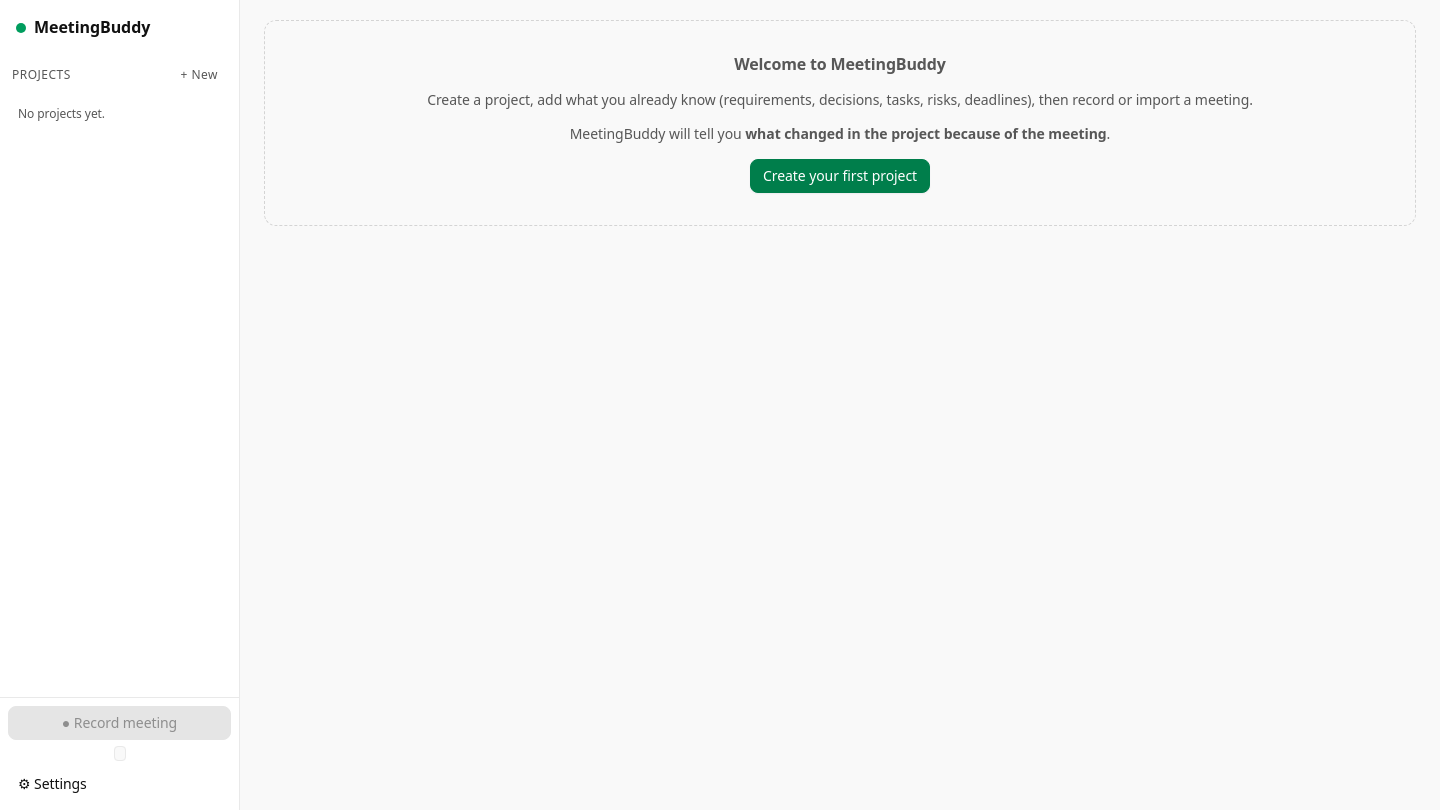
it: creating a project › shows why creating failed and keeps the dialog open
Click the button "Create your first project" at (840, 176), box [750,159,930,193]
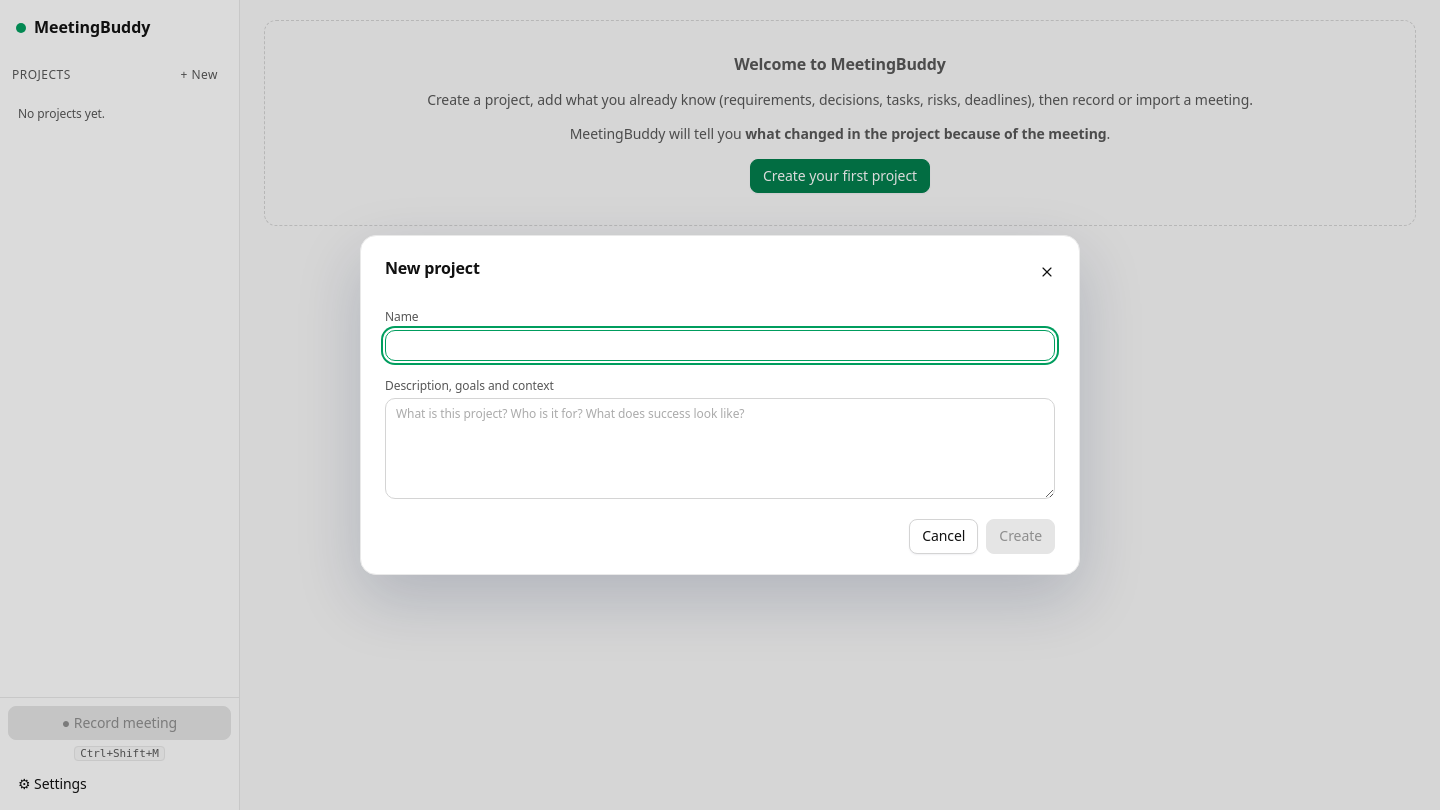
Type "Phoenix" into the field at (720, 345), box [385,330,1055,361]
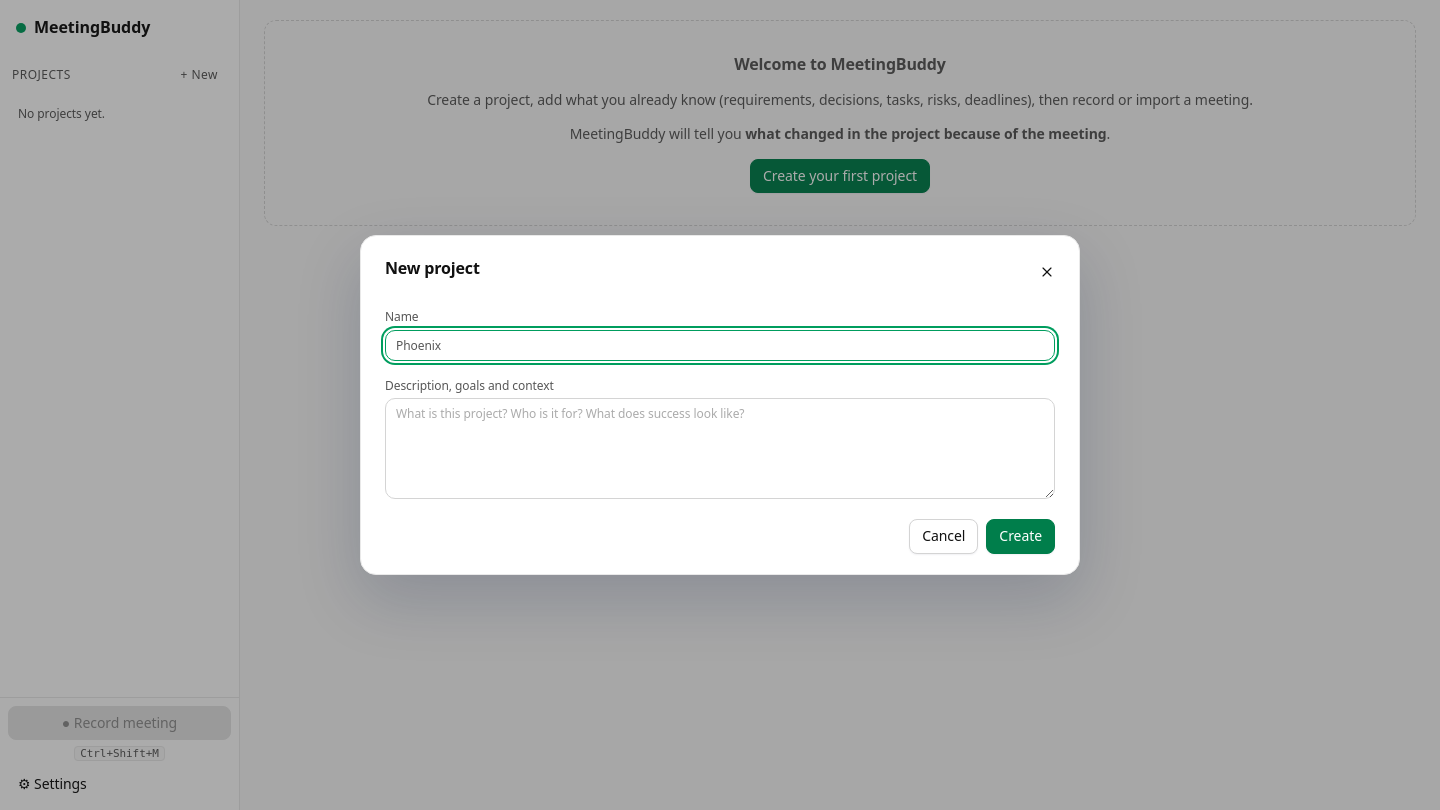
Click the button "Create" at (1021, 537), box [986,519,1055,554]
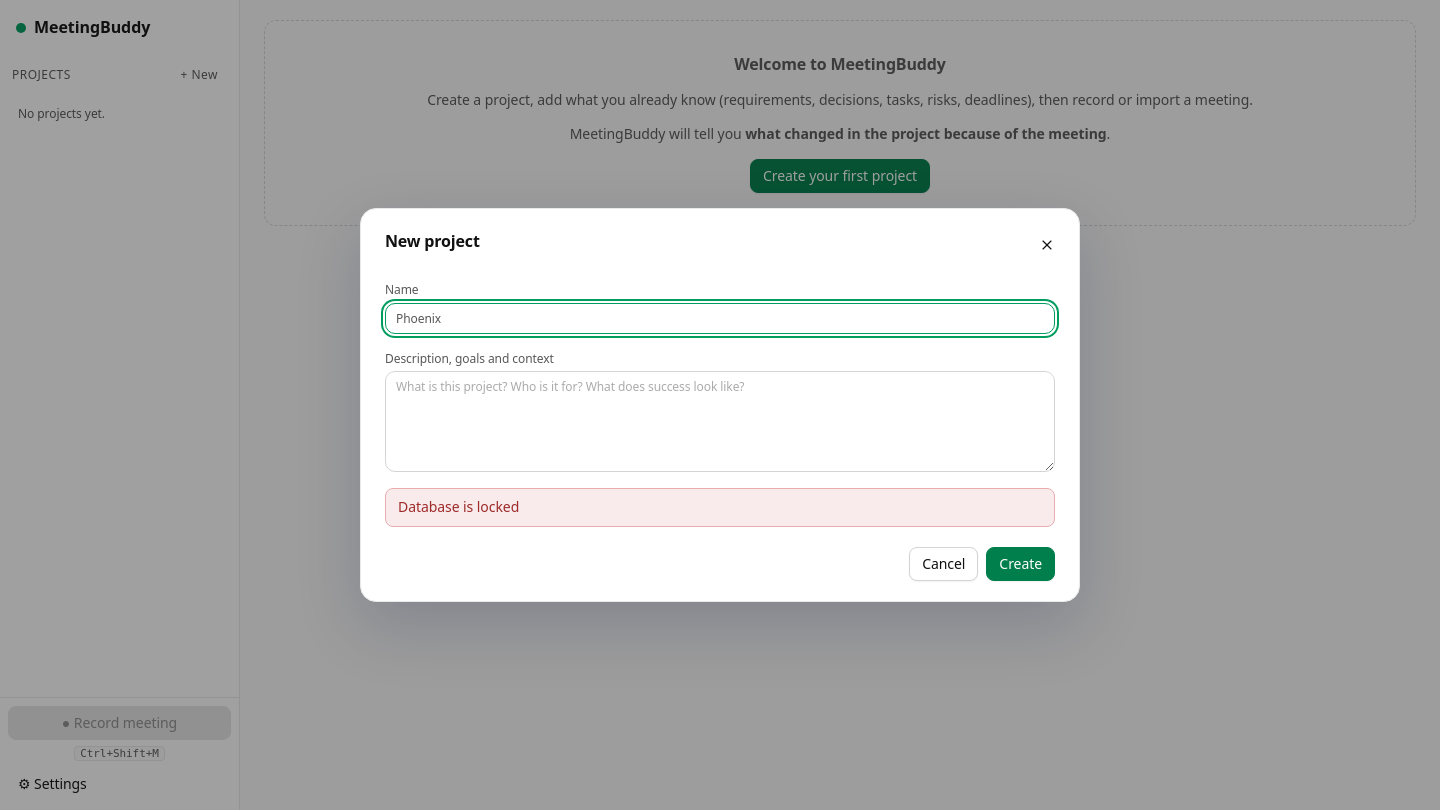
Expected: the text "Database is locked" is shown, [385,488,1055,527]
